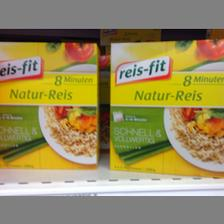Reis: (107, 38, 223, 178), (1, 40, 100, 170)
